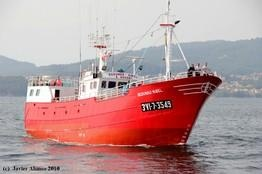otherboat: (22, 1, 222, 147)
